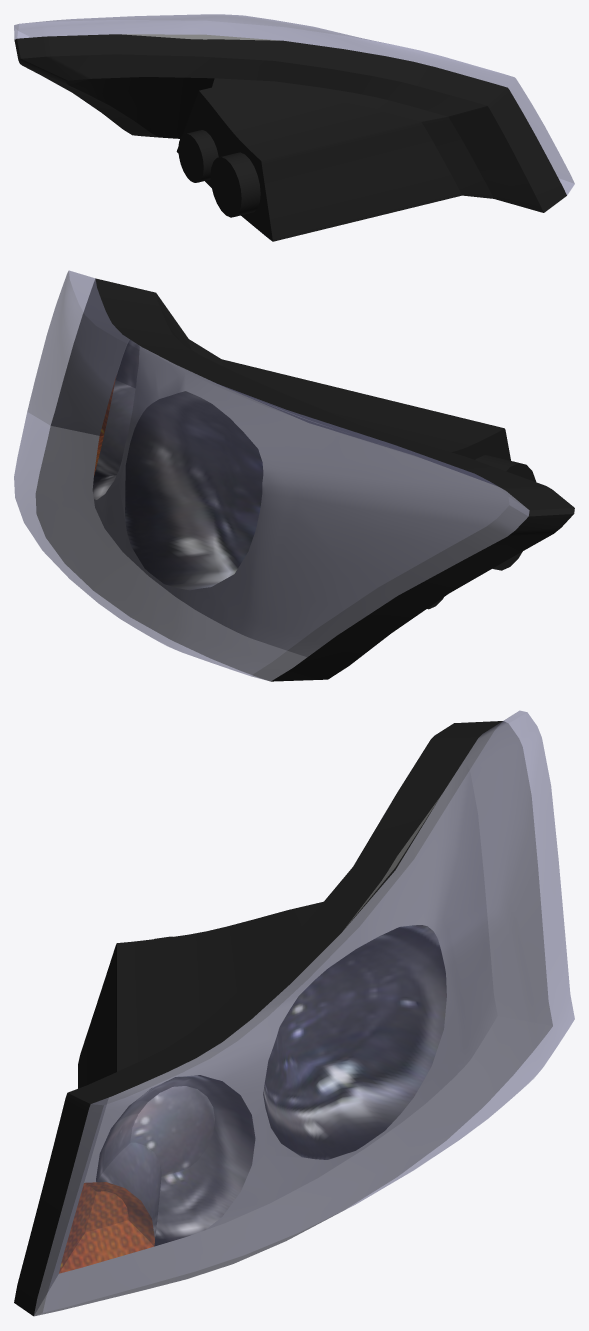
3 views of the same model, one above another, from view 1: azimuth 30°, elevation 25°; view 2: azimuth 150°, elevation 25°; view 3: azimuth 270°, elevation 25° (orthographic). The views are drawn at different scales.
Visible parts, largest first — view 1: H141_061B_L_H141_061B_L_5_D, H141_061B_L_H141_061B_L_6_DTaSI, H141_061B_L_H141_061B_L_4_N; view 2: H141_061B_L_H141_061B_L_6_DTaSI, H141_061B_L_H141_061B_L_4_N, H141_061B_L_H141_061B_L_5_D, H141_061B_L_1_N_H141_061B_L, H141_061B_L_H141_061B_L_2_N; view 3: H141_061B_L_H141_061B_L_6_DTaSI, H141_061B_L_H141_061B_L_4_N, H141_061B_L_H141_061B_L_5_D, H141_061B_L_1_N_H141_061B_L, H141_061B_L_H141_061B_L_2_N, H141_061B_L_H141_061B_L_3_N.
Boxes of the visible parts, x1,y1,x2,y2 form: H141_061B_L_H141_061B_L_5_D: (14, 34, 566, 241); H141_061B_L_H141_061B_L_6_DTaSI: (14, 14, 574, 195); H141_061B_L_H141_061B_L_4_N: (122, 34, 279, 40); H141_061B_L_H141_061B_L_6_DTaSI: (14, 270, 529, 681); H141_061B_L_H141_061B_L_4_N: (35, 279, 529, 681); H141_061B_L_H141_061B_L_5_D: (95, 278, 574, 681); H141_061B_L_1_N_H141_061B_L: (125, 391, 263, 590); H141_061B_L_H141_061B_L_2_N: (92, 339, 139, 499); H141_061B_L_H141_061B_L_6_DTaSI: (34, 710, 574, 1315); H141_061B_L_H141_061B_L_4_N: (34, 721, 552, 1316); H141_061B_L_H141_061B_L_5_D: (14, 721, 502, 1316); H141_061B_L_1_N_H141_061B_L: (263, 925, 446, 1159); H141_061B_L_H141_061B_L_2_N: (96, 1075, 255, 1246); H141_061B_L_H141_061B_L_3_N: (59, 1182, 154, 1273).
Size of the model in its own units: 66.52 by 25.22 by 44.51.
